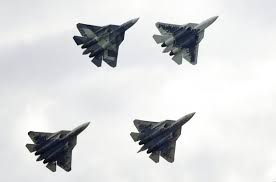maybay_muctieu: (150, 10, 222, 65), (129, 107, 195, 167), (26, 120, 99, 173), (74, 16, 137, 67)
